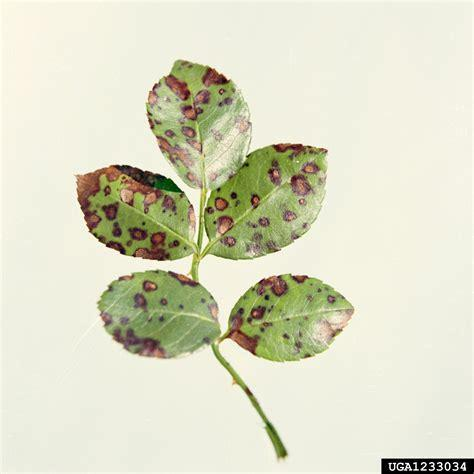black-spot: (214, 188, 276, 245), (174, 94, 212, 157), (128, 280, 169, 316)
